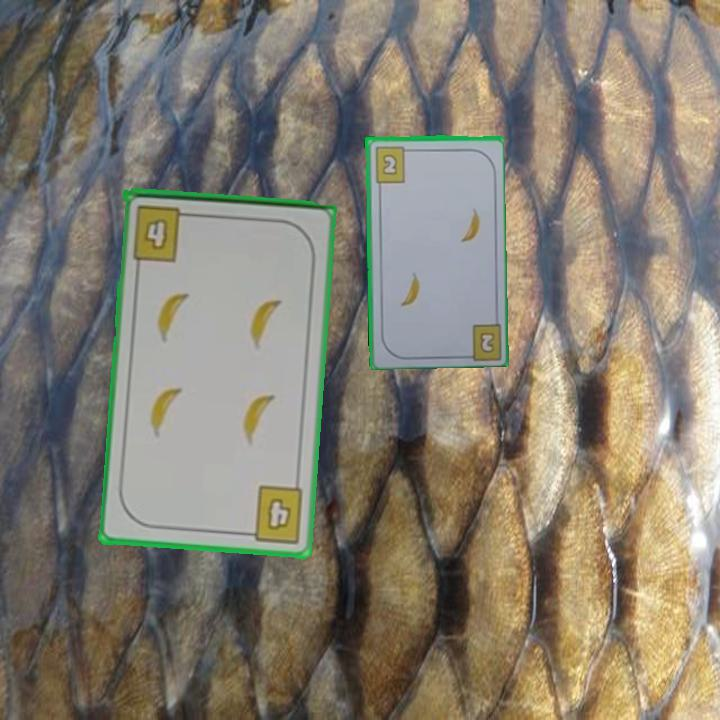2b: (371, 142, 413, 185), (476, 328, 497, 356)
4b: (239, 482, 307, 546), (129, 201, 196, 264)
